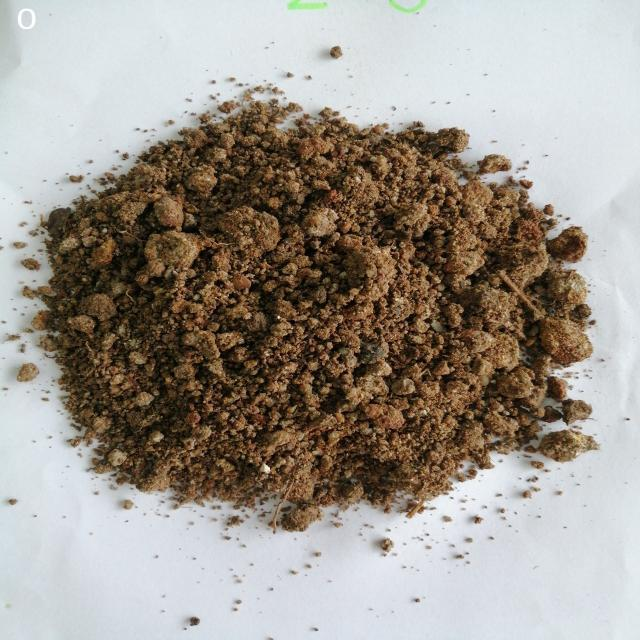soil: (142, 170, 492, 464)
